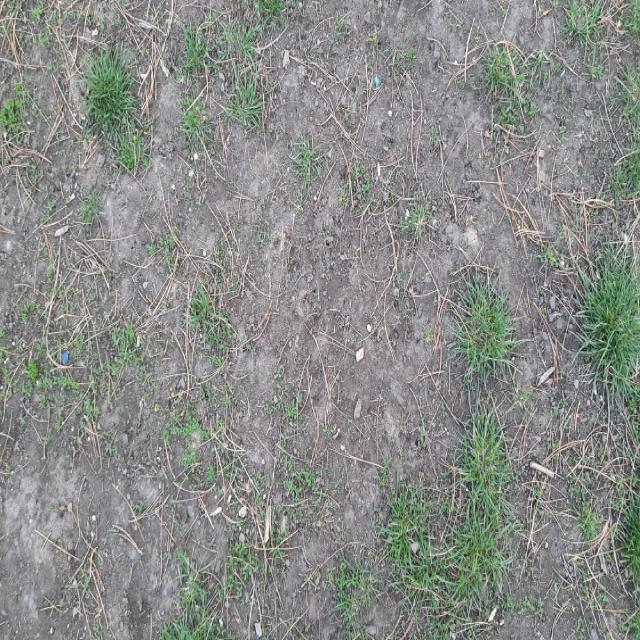grass: (381, 412, 515, 637), (582, 255, 639, 439)
